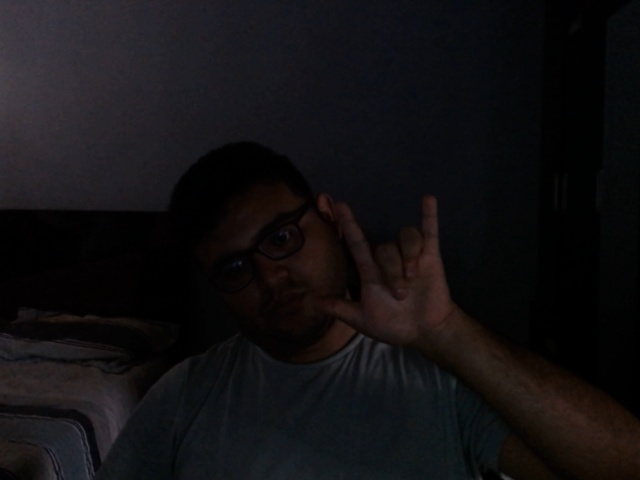I love you: (309, 192, 469, 356)
